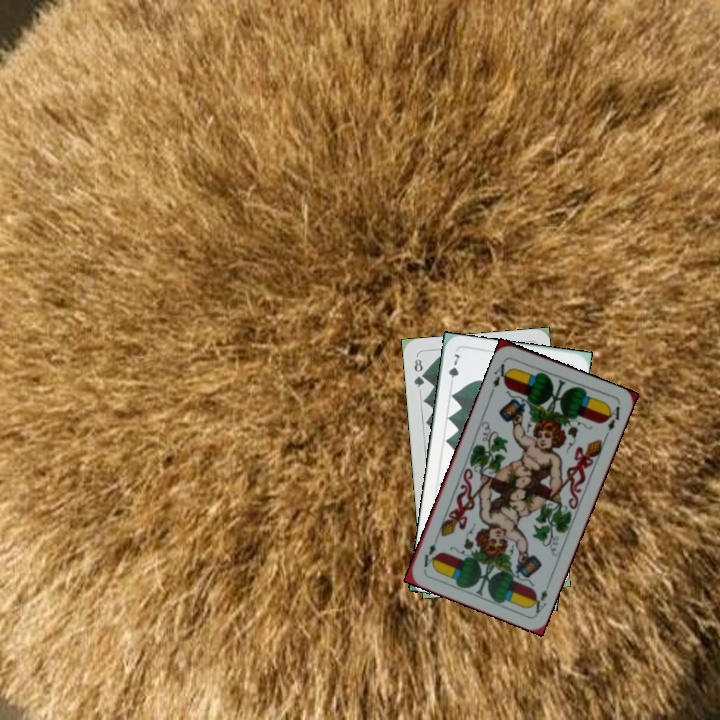EA: (527, 577, 553, 616), (489, 359, 513, 390)
G7: (444, 350, 462, 389)
G8: (410, 355, 427, 390)
